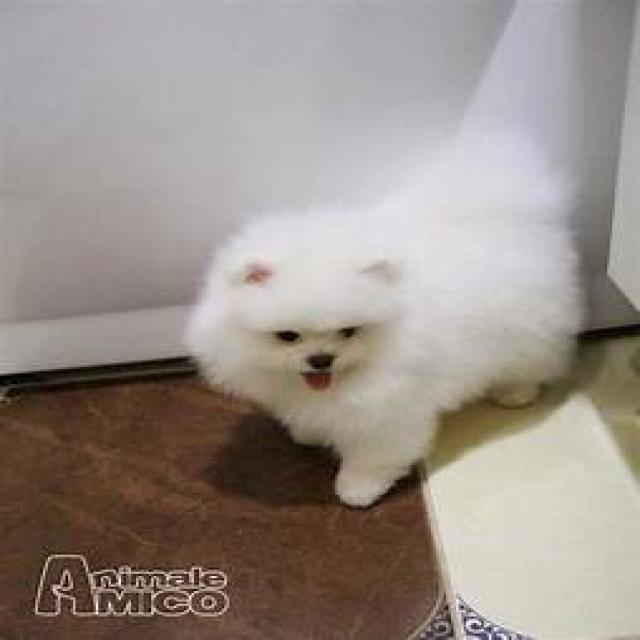dog: (184, 160, 585, 510)
